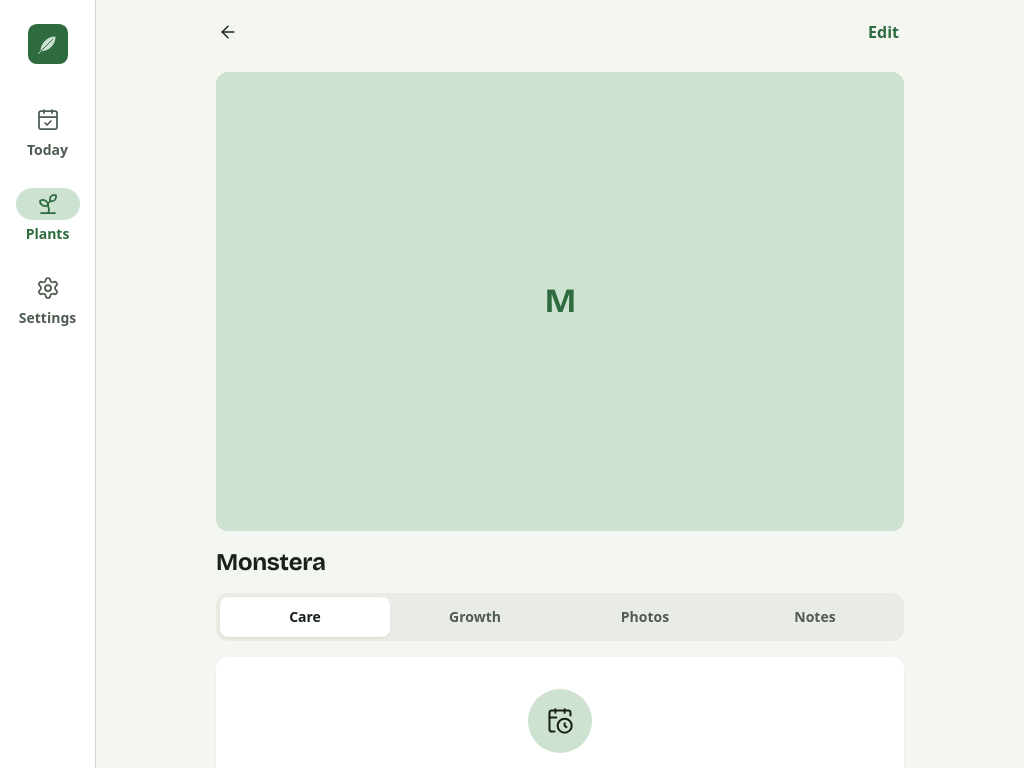
Test case: Growth tab › adds a first measurement, asking for something to save
This screenshot has width=1024, height=768.
Click the tab "Growth" at (475, 617), box [390,597,560,637]
(page scrolled)
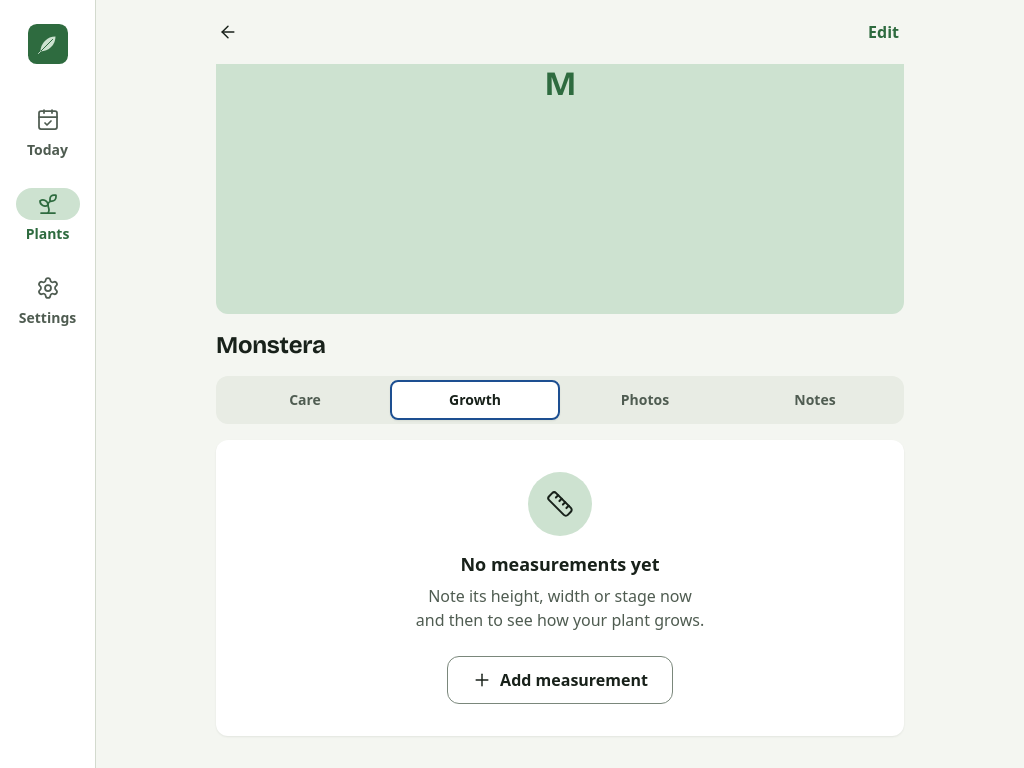
Result: the heading "No measurements yet" is shown at [460,552,660,576]
Click the button "Add measurement" at (560, 680), box [447,656,673,704]
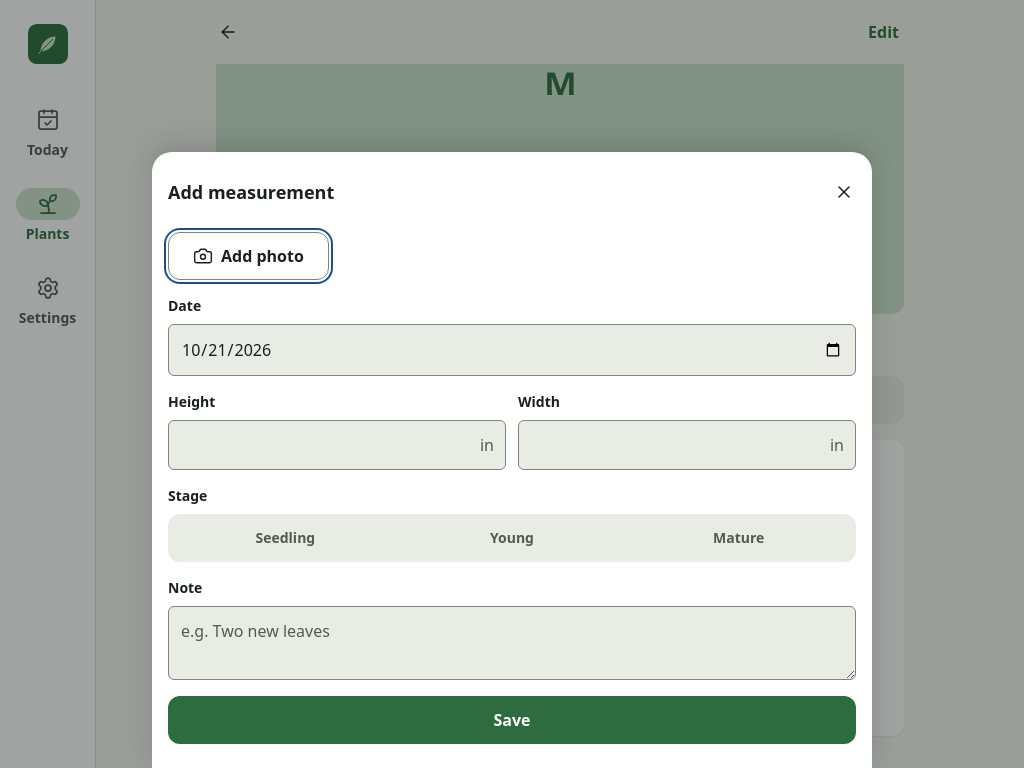
Result: the date field labelled "Date" holds "2026-10-21" at [168,324,856,376]
Click the button "Save" at (512, 720), box [168,696,856,744]
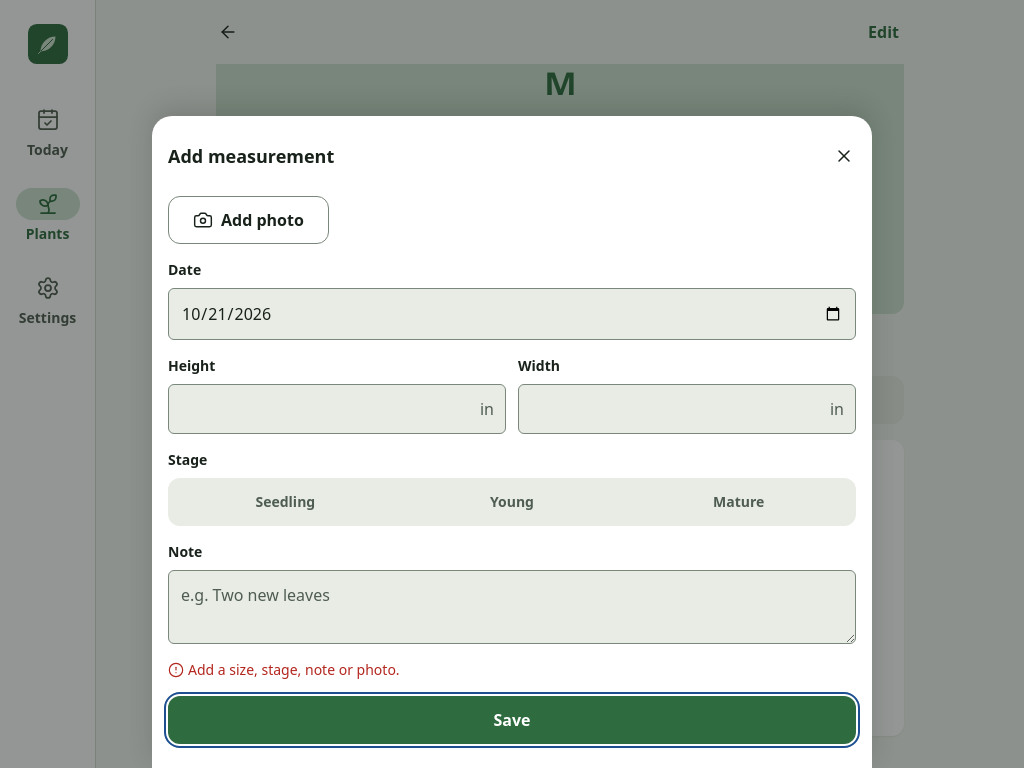
Result: the text "Add a size, stage, note or photo." is shown at [168,660,400,679]
Type "15" into the field labelled "Height" at (337, 409), box [168,384,506,434]
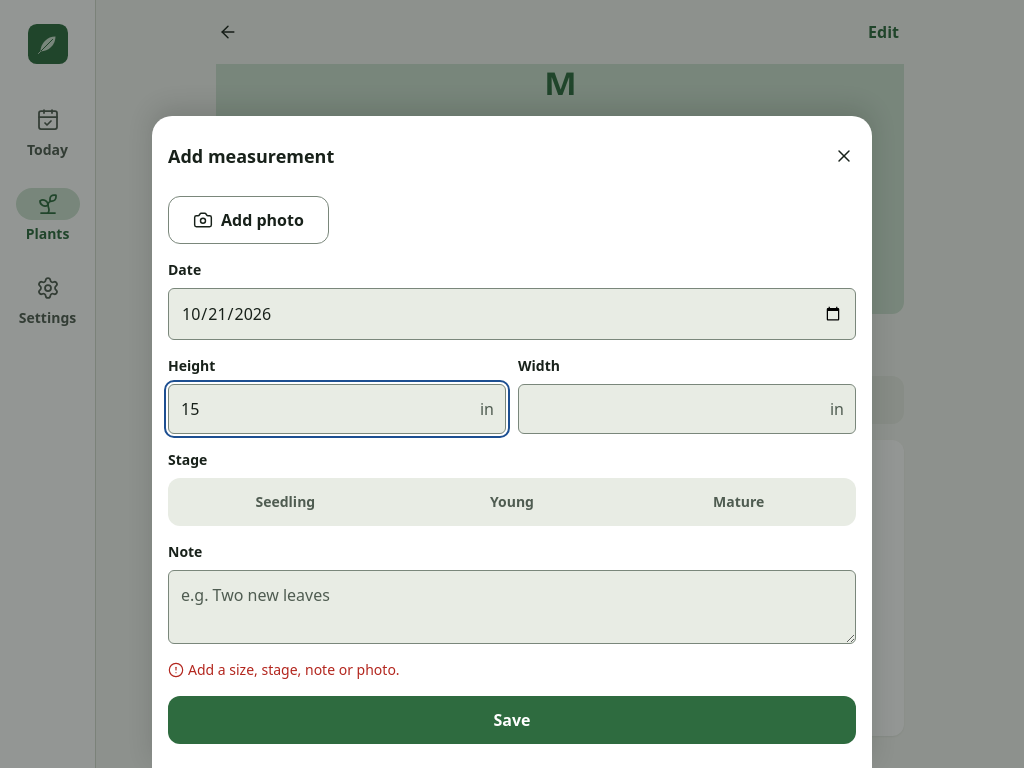
Click the button "Save" at (512, 720), box [168,696,856,744]
(page scrolled)
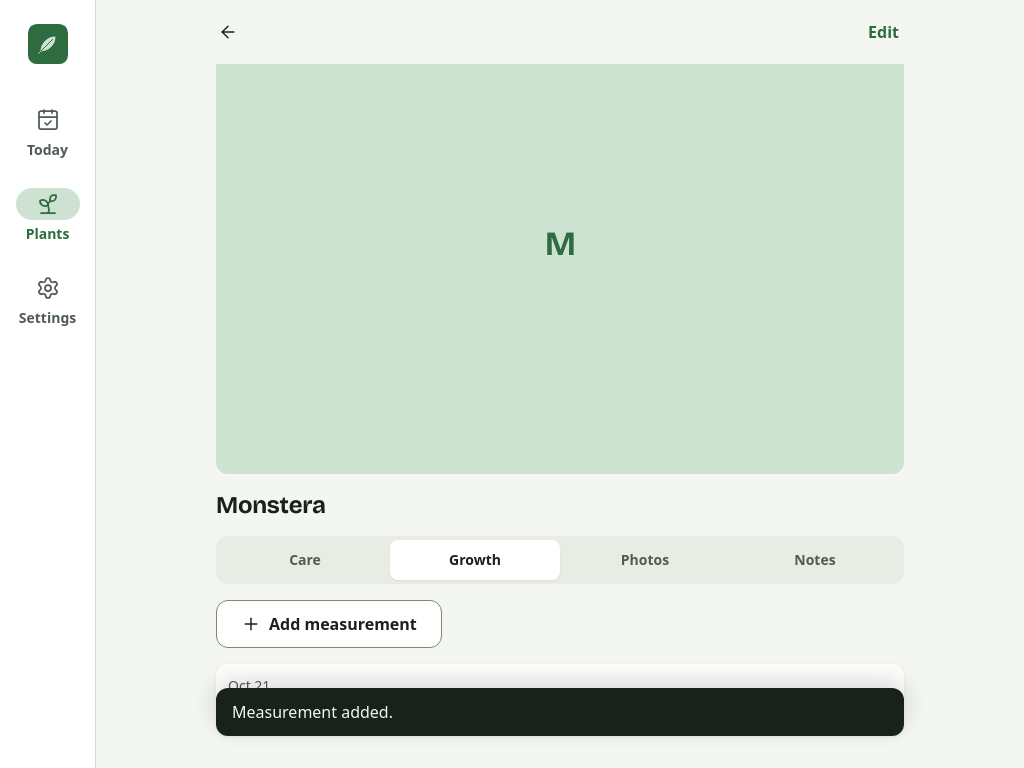
Result: the text "Measurement added." is shown at [232,701,393,723]
Result: the text "15 in tall" is shown at [228,700,296,724]
